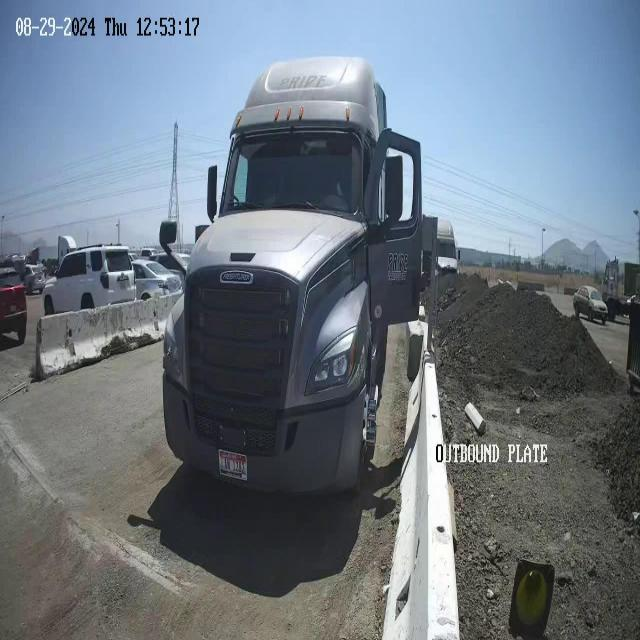TRUCK_OUT: (160, 55, 428, 500)
